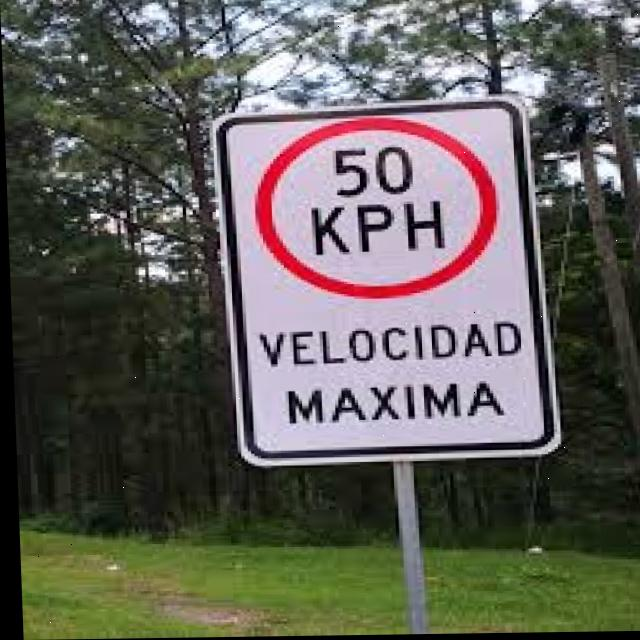Speed limit 50: (249, 111, 502, 302)
